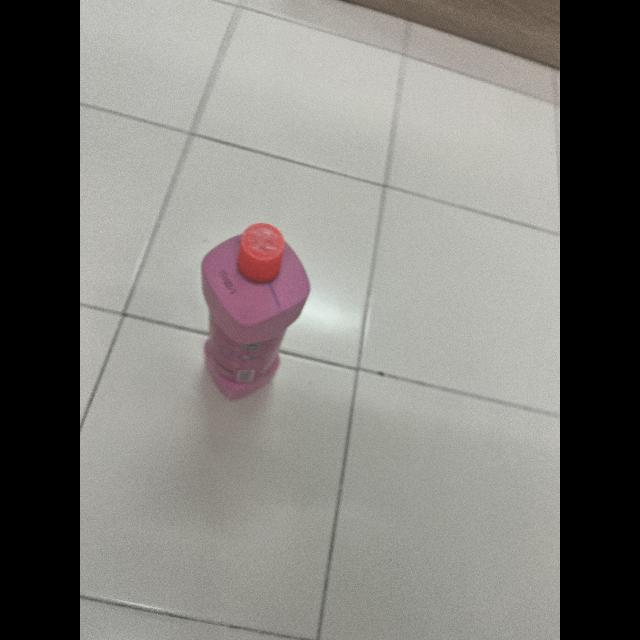chemical_plastic_bottle: (194, 218, 314, 398)
